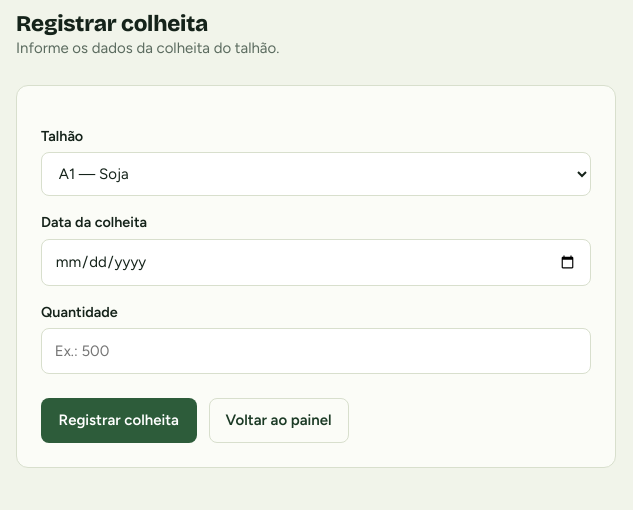
Test: RegistrarColheita - UI03 › impede o registro com quantidade inválida: -10
The image size is (633, 510).
Expected: the dropdown labelled "Talhão" is shown, x1=41 y1=152 x2=591 y2=196
Type "2026-11-26" into the date field labelled "Data da colheita" at (316, 262), box x1=41 y1=239 x2=591 y2=286
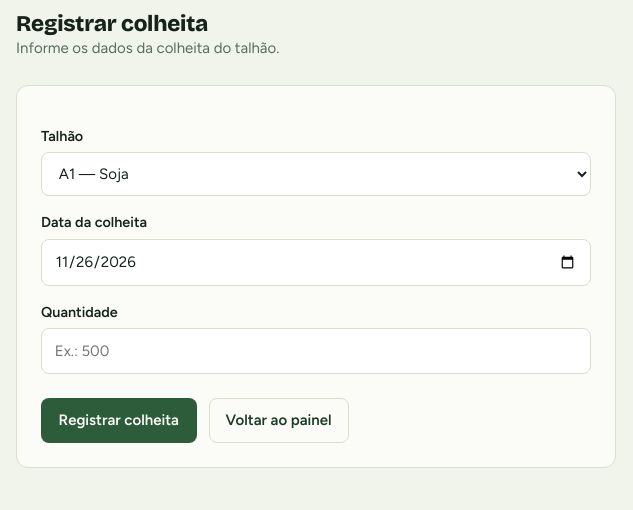
Type "-10" into the number field labelled "Quantidade" at (316, 351), box x1=41 y1=328 x2=591 y2=374
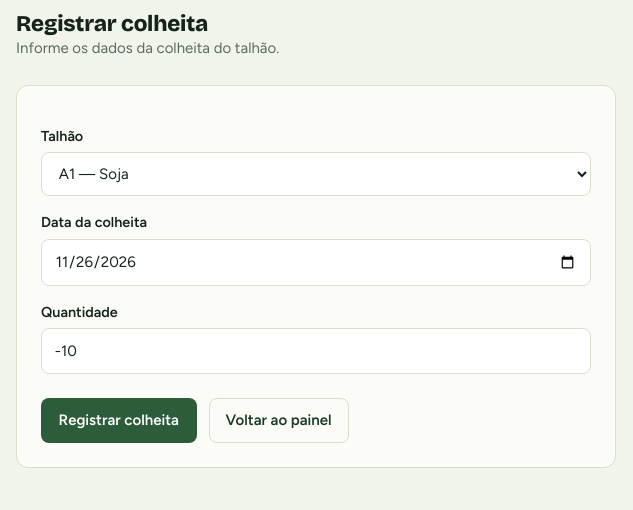
Click the button "Registrar colheita" at (119, 420), box x1=41 y1=398 x2=196 y2=443
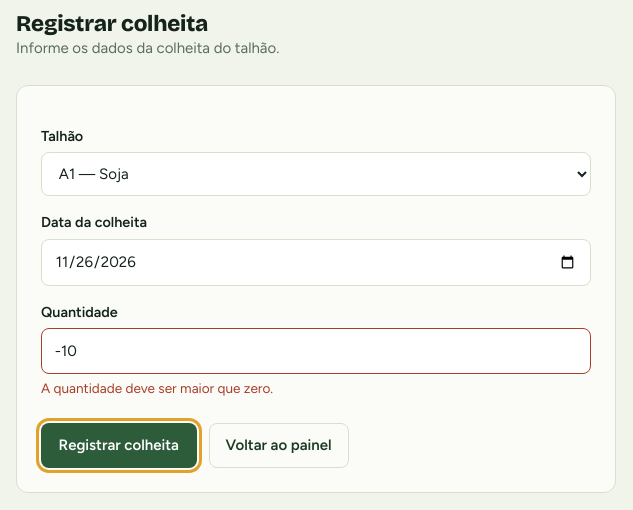
Expected: the text "A quantidade deve ser maior que zero." is shown, x1=41 y1=380 x2=273 y2=396
